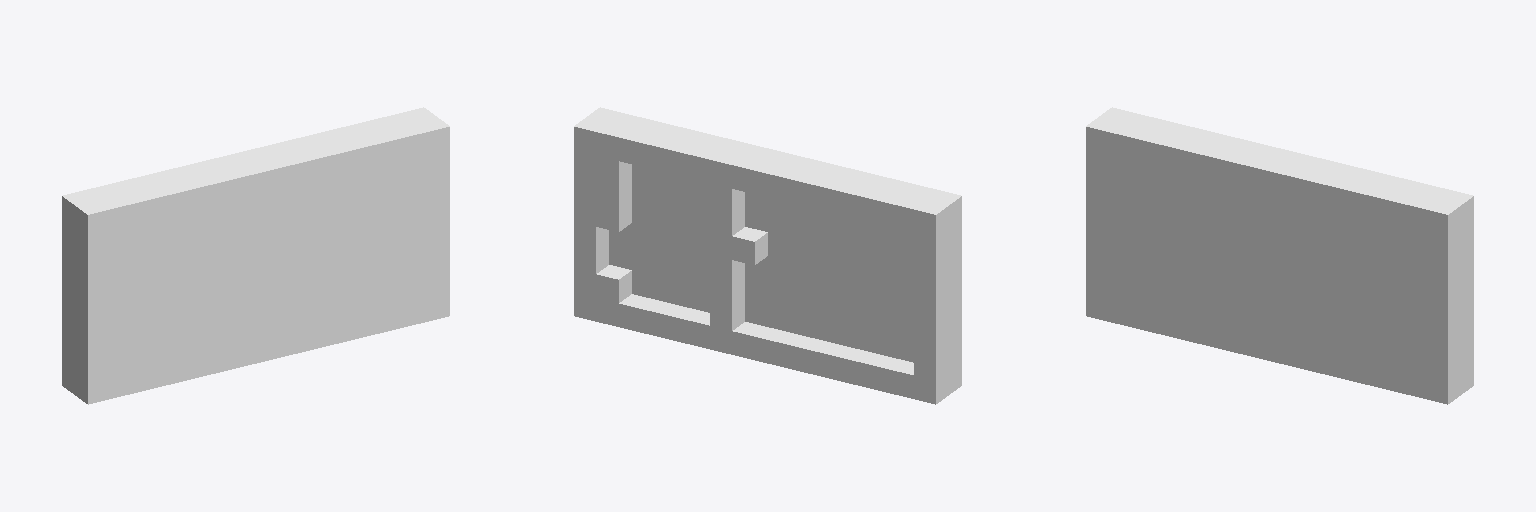
The model's file is exit.obj.
3 renders of one model, left to right at view 1: azimuth 30°, elevation 25°; view 2: azimuth 150°, elevation 25°; view 3: azimuth 330°, elevation 25°, orthographic.
Visible parts, largest first — view 1: exit; view 2: exit; view 3: exit.
Boxes of the visible parts, <box> form: exit: <box>62,107,449,404</box>; exit: <box>574,107,961,404</box>; exit: <box>1086,107,1473,404</box>.
Bounding box in the file's own units: 16 × 8 × 2.